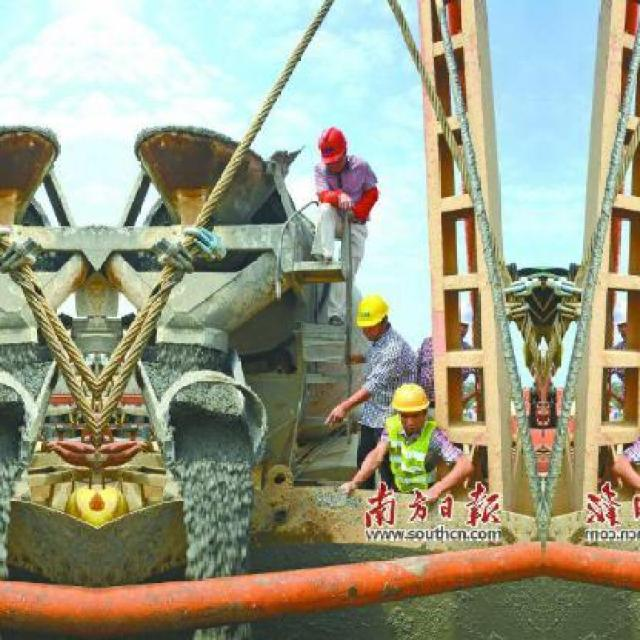helmet: (316, 127, 352, 163), (356, 292, 392, 328), (391, 381, 429, 413)
